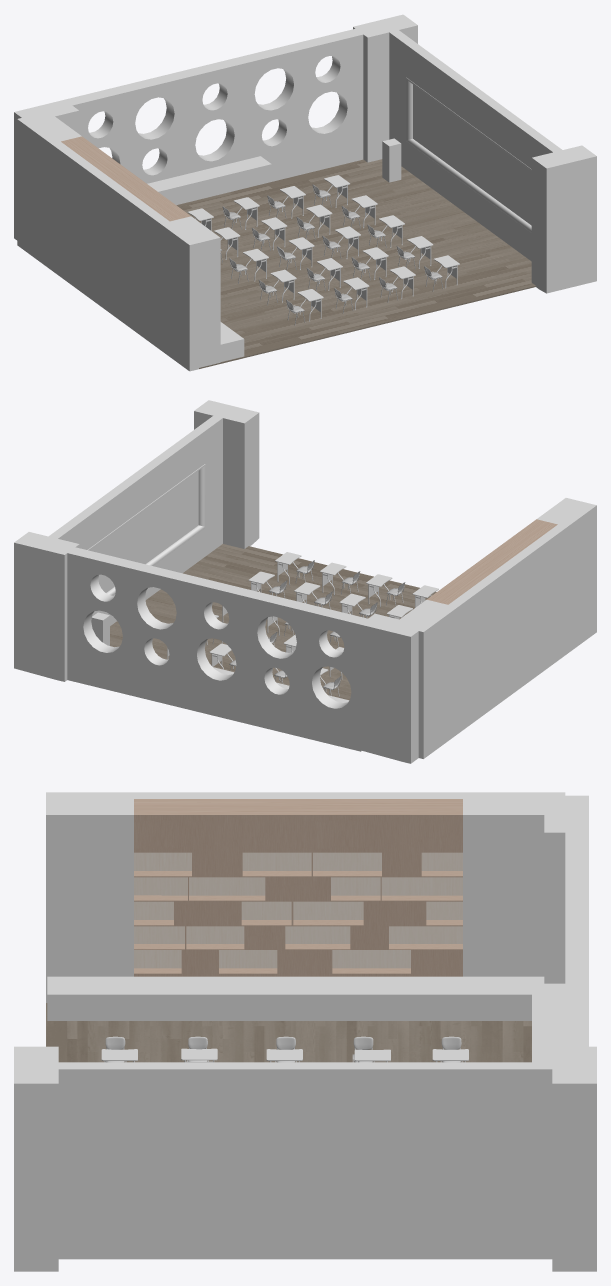
Rendered from class room.fbx.
The picture shows the model from 3 angles, top to bottom: view 1: azimuth 30°, elevation 25°; view 2: azimuth 150°, elevation 25°; view 3: azimuth 270°, elevation 25°; orthographic projection. The views are drawn at different scales.
Parts seen in each view (by area): view 1: Box001, Box100, Box011, Box007, Box101, Box099, Box016, Box015, Object, Box009, Box019, Box035 (+1 smaller); view 2: Box100, Box011, Box007, Box001, Box009, Box099, Box101, Box015, Object, Box016, Box012, Box035; view 3: Box007, Box015, Box001, Box016, Box012, Box017, Box018, Box101, Box099, Box100, Box009, Box011 (+1 smaller).
Part boxes in pixels (x1=…): Box001: x1=176, y1=159, x2=535, y2=368; Box100: x1=64, y1=28, x2=363, y2=205; Box011: x1=17, y1=118, x2=198, y2=371; Box007: x1=385, y1=27, x2=566, y2=261; Box101: x1=531, y1=145, x2=596, y2=293; Box099: x1=353, y1=14, x2=417, y2=162; Box016: x1=170, y1=216, x2=220, y2=367; Box015: x1=61, y1=136, x2=190, y2=221; Object: x1=406, y1=77, x2=531, y2=232; Box009: x1=14, y1=100, x2=79, y2=240; Box019: x1=147, y1=156, x2=271, y2=193; Box035: x1=382, y1=138, x2=401, y2=182; Box100: x1=67, y1=547, x2=368, y2=751; Box011: x1=414, y1=503, x2=596, y2=758; Box007: x1=48, y1=413, x2=226, y2=625; Box001: x1=110, y1=544, x2=436, y2=700; Box009: x1=361, y1=613, x2=424, y2=763; Box099: x1=14, y1=532, x2=79, y2=681; Box101: x1=194, y1=400, x2=259, y2=548; Box015: x1=427, y1=519, x2=557, y2=604; Object: x1=87, y1=464, x2=205, y2=595; Box016: x1=537, y1=498, x2=586, y2=524; Box012: x1=398, y1=599, x2=447, y2=625; Box035: x1=91, y1=612, x2=109, y2=645; Box007: x1=46, y1=1062, x2=565, y2=1259; Box015: x1=134, y1=799, x2=462, y2=976; Box001: x1=46, y1=1003, x2=531, y2=1062; Box016: x1=46, y1=799, x2=133, y2=1002; Box012: x1=463, y1=799, x2=550, y2=976; Box017: x1=47, y1=997, x2=531, y2=1020; Box018: x1=47, y1=976, x2=544, y2=997; Box101: x1=14, y1=1046, x2=58, y2=1271; Box099: x1=552, y1=1046, x2=596, y2=1271; Box100: x1=565, y1=832, x2=588, y2=1046; Box009: x1=544, y1=795, x2=588, y2=983; Box011: x1=46, y1=792, x2=565, y2=798.
Bounding box in the file's own units: 1328 × 404 × 1123.
